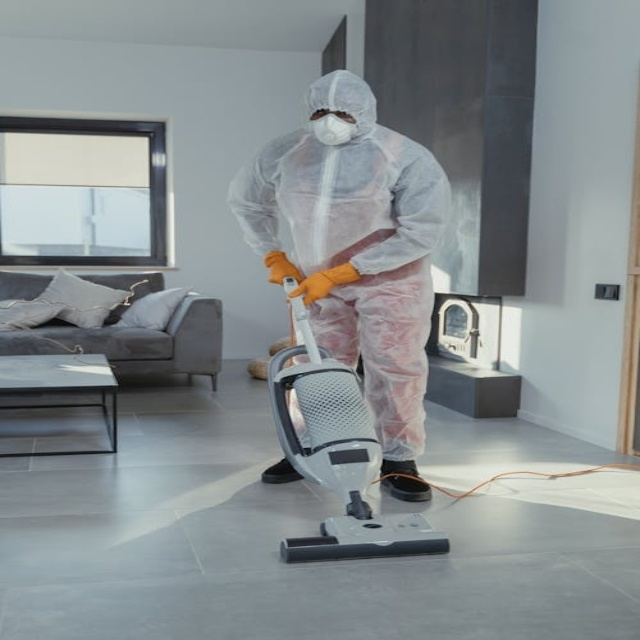Guantes: (293, 263, 360, 305), (264, 251, 304, 289)
Mascara: (300, 112, 364, 146)
Sin_gafas: (306, 108, 353, 119)
